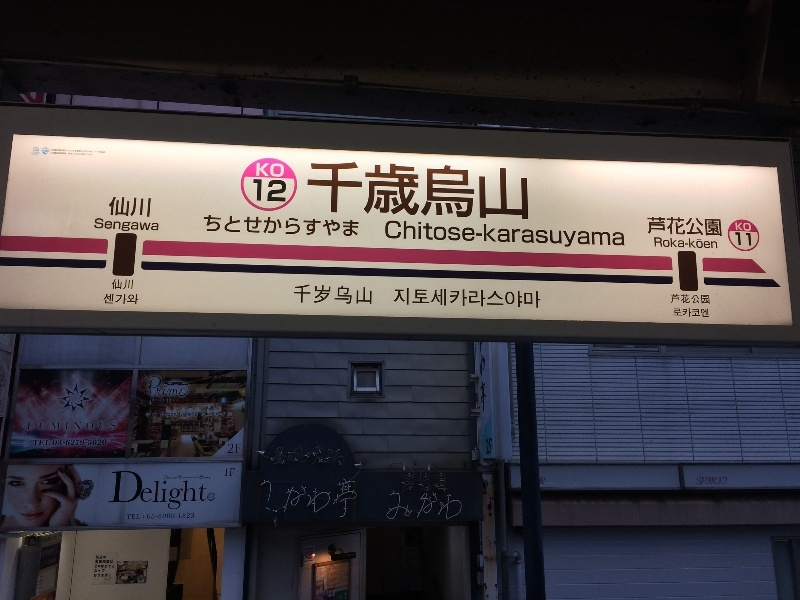text: (513, 160, 529, 221), (321, 160, 336, 221), (337, 160, 352, 221), (353, 160, 368, 221), (369, 160, 384, 221), (385, 160, 400, 221), (401, 160, 416, 221), (417, 160, 432, 221), (433, 160, 448, 221), (449, 160, 464, 221), (465, 160, 480, 221), (481, 160, 496, 221), (497, 160, 512, 221), (309, 160, 320, 221), (193, 471, 209, 510), (273, 478, 288, 518), (289, 478, 304, 518), (305, 478, 320, 518), (321, 478, 336, 518), (337, 478, 352, 518), (113, 471, 128, 510), (129, 471, 144, 510), (145, 471, 160, 510), (161, 471, 176, 510), (177, 471, 192, 510), (385, 220, 400, 250), (401, 220, 416, 250), (417, 220, 432, 250), (433, 220, 448, 250), (449, 220, 464, 250), (465, 220, 480, 250), (481, 220, 496, 250), (497, 220, 512, 250), (513, 220, 528, 250), (529, 220, 544, 250), (545, 220, 560, 250), (561, 220, 576, 250), (577, 220, 592, 250), (593, 220, 608, 250), (609, 220, 624, 250), (261, 478, 272, 518), (401, 493, 416, 520), (417, 493, 432, 520), (433, 493, 448, 520), (481, 350, 487, 413), (387, 493, 400, 520), (449, 493, 462, 520), (257, 179, 272, 202), (209, 215, 224, 237), (225, 215, 240, 237), (241, 215, 256, 237), (257, 215, 272, 237), (273, 215, 288, 237), (289, 215, 304, 237), (305, 215, 320, 237), (321, 215, 336, 237), (337, 215, 352, 237), (305, 283, 320, 305), (321, 283, 336, 305), (337, 283, 352, 305), (353, 283, 368, 305), (401, 288, 416, 310), (417, 288, 432, 310), (433, 288, 448, 310), (449, 288, 464, 310), (465, 288, 480, 310), (481, 288, 496, 310), (497, 288, 512, 310), (513, 288, 528, 310), (273, 179, 287, 202), (113, 197, 128, 218), (129, 197, 144, 218), (273, 446, 288, 466), (289, 446, 304, 466), (305, 446, 320, 466), (321, 446, 336, 466), (161, 376, 176, 396), (657, 217, 672, 236), (673, 217, 688, 236), (689, 217, 704, 236), (705, 217, 720, 236), (417, 473, 432, 492), (433, 473, 448, 492), (146, 376, 160, 396), (529, 288, 541, 310), (404, 473, 416, 492), (257, 163, 272, 178), (97, 218, 112, 233), (113, 218, 128, 233), (129, 218, 144, 233), (294, 283, 304, 305), (177, 376, 188, 396), (145, 218, 159, 233), (737, 233, 752, 246), (657, 237, 672, 249), (673, 237, 688, 249), (689, 237, 704, 249), (273, 163, 284, 178), (113, 279, 128, 290), (485, 439, 496, 454), (673, 294, 688, 305), (689, 294, 704, 305), (337, 446, 345, 466), (353, 478, 357, 518), (705, 237, 718, 249), (648, 217, 656, 236), (689, 308, 704, 318), (674, 308, 688, 318), (225, 469, 240, 478), (353, 215, 359, 237), (145, 197, 151, 218), (737, 222, 751, 231), (33, 422, 48, 430), (49, 422, 64, 430), (65, 422, 80, 430), (81, 422, 96, 430), (97, 422, 112, 430), (705, 477, 720, 485), (229, 444, 240, 454), (395, 288, 400, 310), (65, 149, 80, 156), (81, 149, 96, 156), (65, 439, 80, 446), (81, 439, 96, 446), (129, 514, 145, 520), (51, 149, 64, 156), (161, 513, 176, 519), (177, 513, 192, 519), (204, 215, 208, 237), (34, 440, 48, 446), (147, 513, 160, 519), (53, 439, 64, 446), (177, 475, 192, 480), (193, 475, 208, 480), (97, 439, 107, 446), (369, 283, 372, 305), (696, 477, 704, 485), (479, 350, 480, 413), (164, 475, 176, 480), (161, 413, 176, 417), (177, 413, 192, 417), (193, 413, 208, 417), (209, 413, 224, 417), (97, 149, 105, 156), (146, 413, 160, 417), (721, 477, 728, 485), (129, 279, 134, 290), (705, 294, 710, 305), (705, 308, 710, 318), (254, 179, 256, 202), (97, 561, 112, 564), (97, 565, 112, 568), (110, 197, 112, 218), (97, 574, 108, 577), (97, 569, 105, 573), (28, 422, 32, 430), (113, 422, 117, 430), (625, 220, 626, 250), (97, 556, 107, 559), (225, 413, 232, 417), (654, 237, 656, 249), (271, 446, 272, 466), (721, 217, 722, 236), (95, 218, 96, 233), (735, 233, 736, 246), (49, 440, 51, 446), (671, 294, 672, 305), (209, 475, 211, 480), (735, 222, 736, 231), (127, 514, 128, 520), (193, 513, 194, 519), (113, 565, 115, 568), (94, 574, 96, 577), (95, 569, 96, 573), (113, 561, 114, 564), (95, 565, 96, 568)
